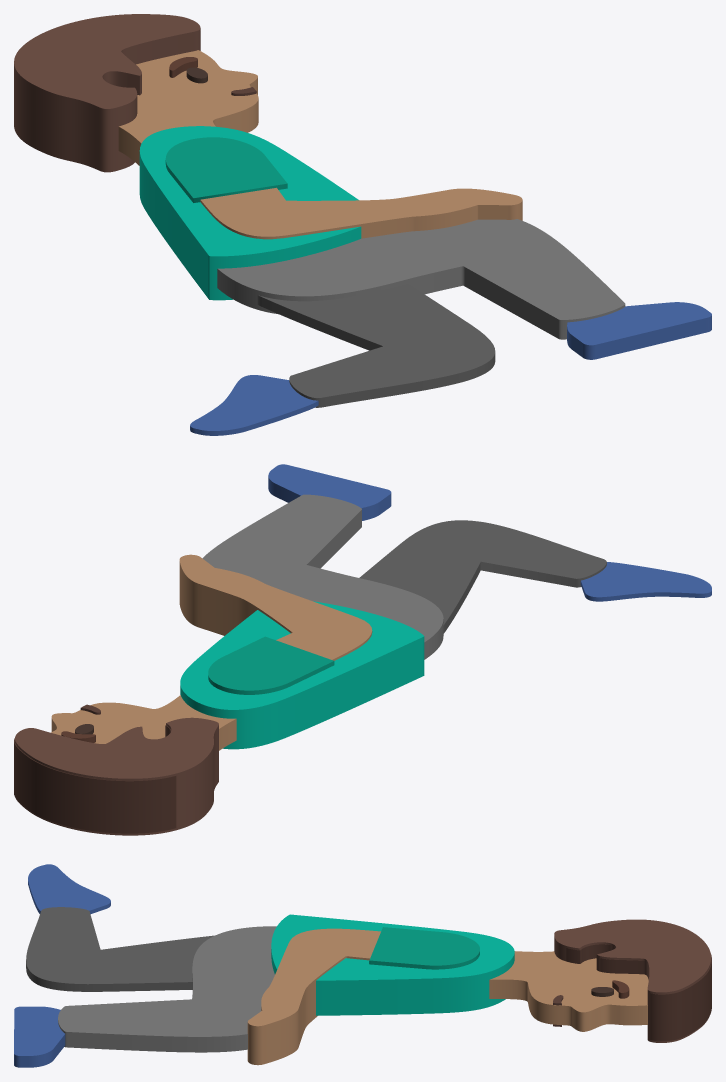
Rendered from emoji_u1f9ce_1f3fd_200d_2642_200d_27a1.glb.
3 renders of one model, top to bottom at view 1: azimuth 30°, elevation 25°; view 2: azimuth 150°, elevation 25°; view 3: azimuth 270°, elevation 25°, orthographic. The views are drawn at different scales.
Visible parts, largest first — view 1: emoji_u1f9ce_1f3fd_200d_2642_200d_27a1; view 2: emoji_u1f9ce_1f3fd_200d_2642_200d_27a1; view 3: emoji_u1f9ce_1f3fd_200d_2642_200d_27a1.
Boxes of the visible parts, left/top/right/bottom form: emoji_u1f9ce_1f3fd_200d_2642_200d_27a1: left=14, top=14, right=711, bottom=435; emoji_u1f9ce_1f3fd_200d_2642_200d_27a1: left=14, top=464, right=711, bottom=835; emoji_u1f9ce_1f3fd_200d_2642_200d_27a1: left=14, top=864, right=711, bottom=1067.
Size of the model in its own units: 0.0215 by 0.0026 by 0.0325.
